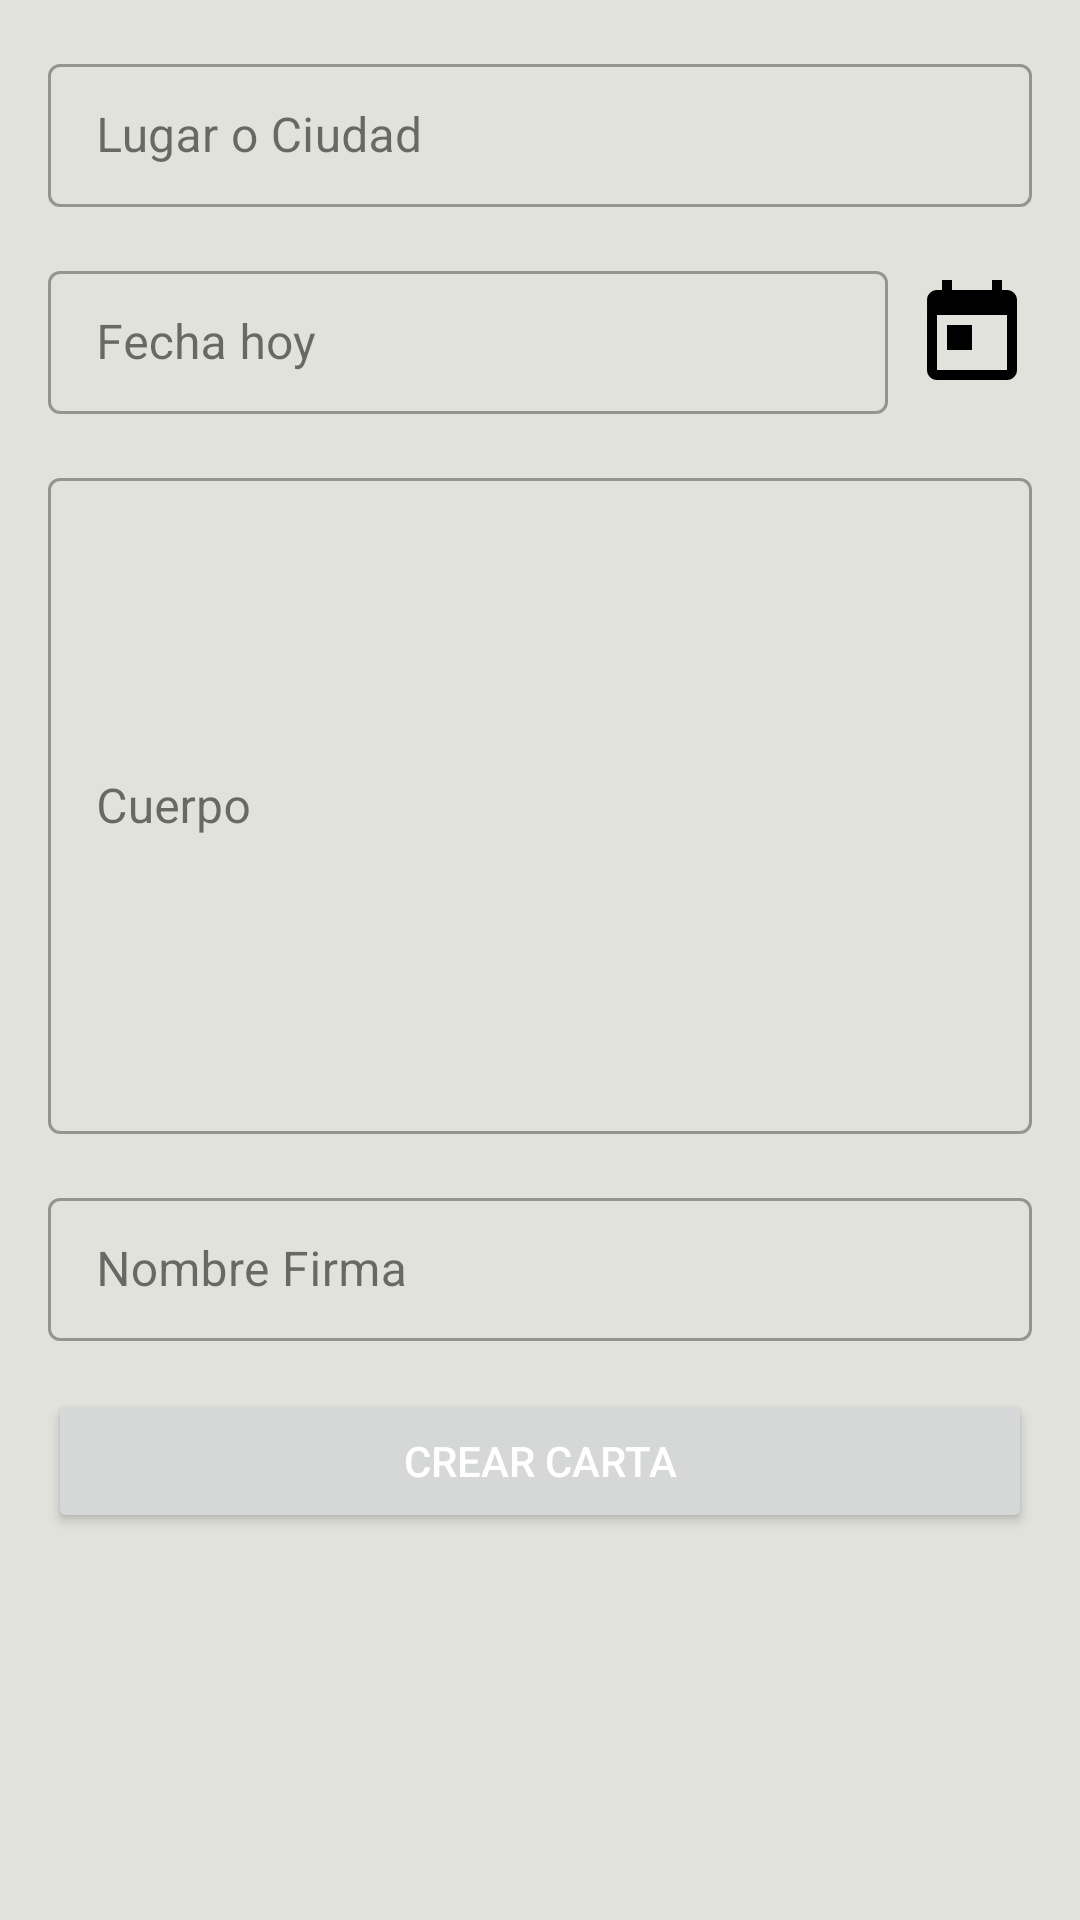

Icons on this 1080*1920 Android screen, each with its box as (x1, y1, x2, y2):
today: (927, 280, 1017, 380)
